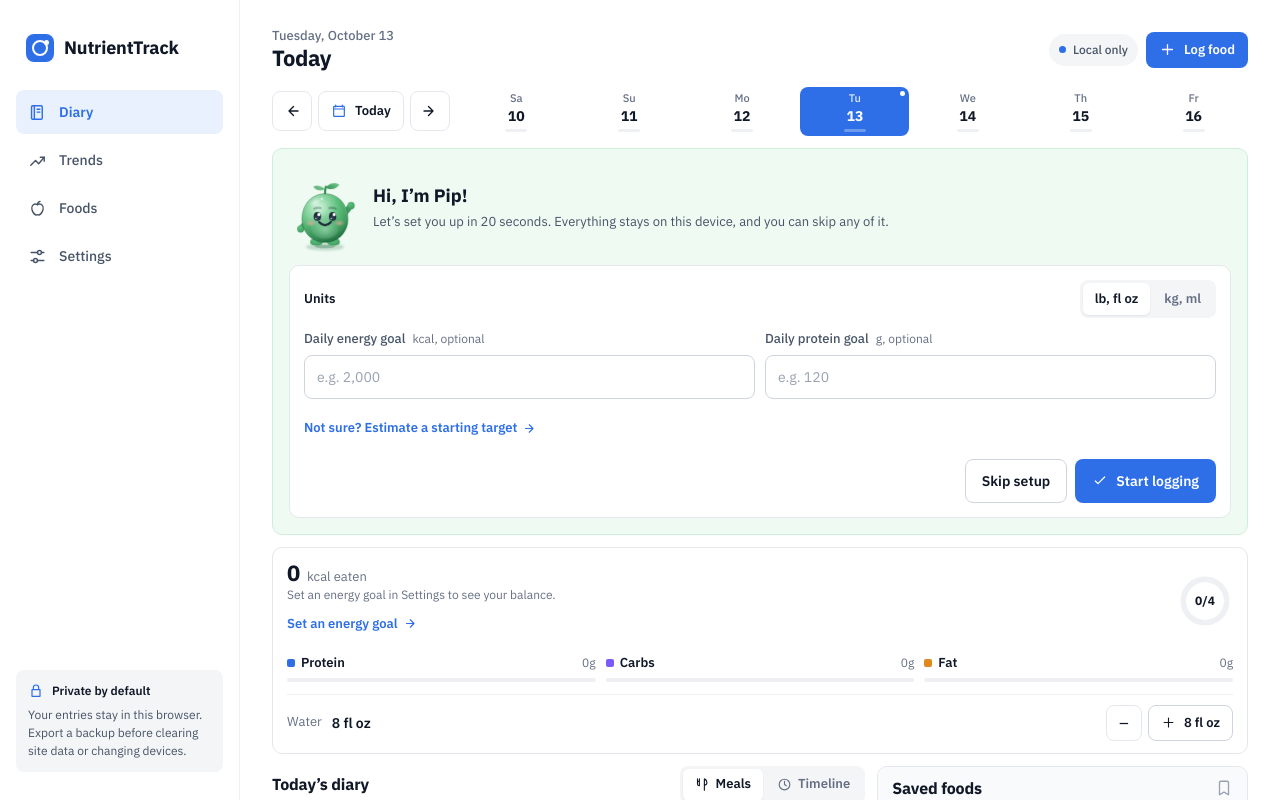
Scenario: water row › deletes the record instead of saving zero when removed back to 0
Click the button named "Remove 8 fl oz of water" at x=1124, y=723, box [1106, 705, 1142, 741]
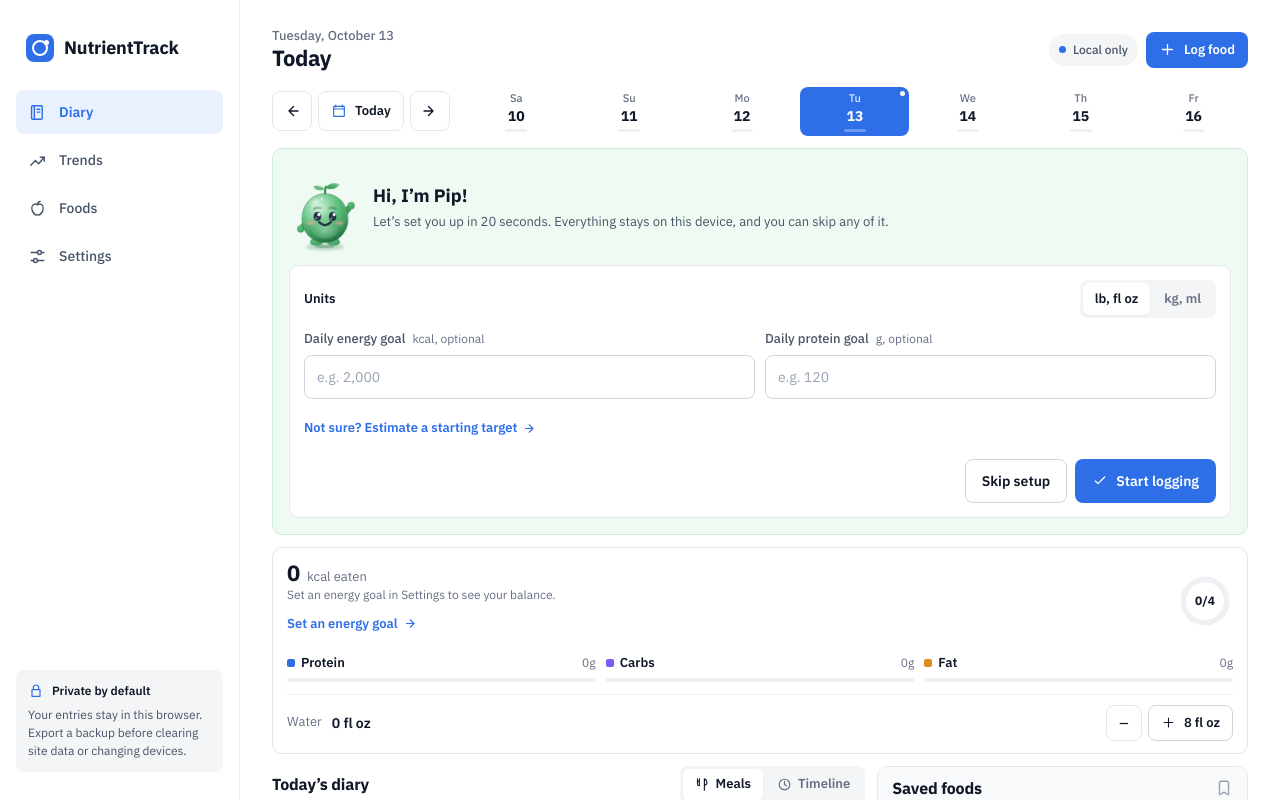
Expected: the text with class "water-value" reads "0 fl oz", [332, 714, 371, 732]
